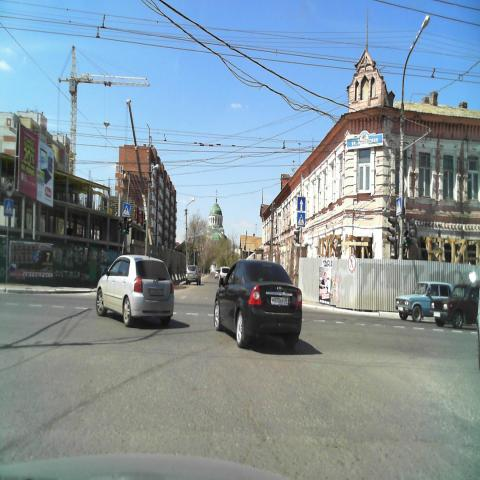3_10: (348, 254, 356, 272)
